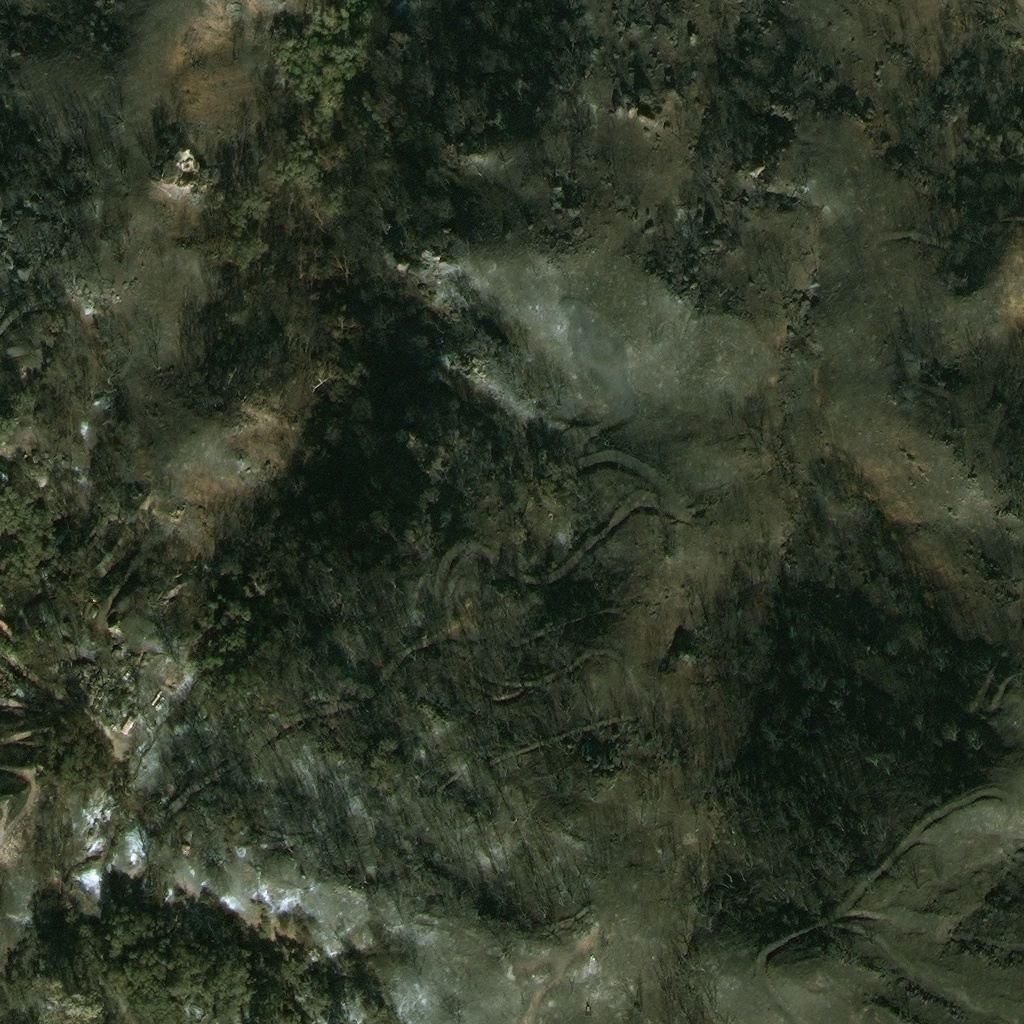2 major-damage: (108, 716, 130, 734), (85, 602, 98, 618)
3 destroyed: (121, 747, 152, 767), (584, 958, 597, 972), (0, 618, 8, 631), (574, 930, 581, 938)
